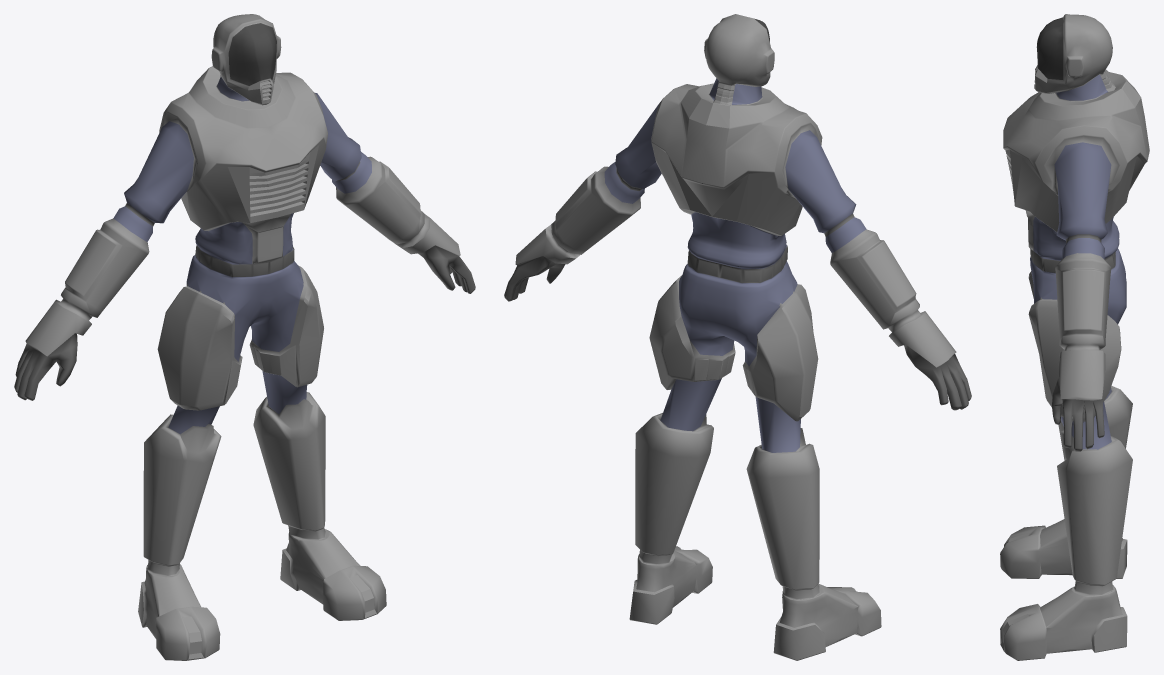
File: SmallEnemy_high.fbx
3 views of the same model, side by side, from view 1: azimuth 30°, elevation 25°; view 2: azimuth 150°, elevation 25°; view 3: azimuth 270°, elevation 25° (orthographic). The views are drawn at different scales.
Parts seen in each view (by area): view 1: SmallEnemy_high; view 2: SmallEnemy_high; view 3: SmallEnemy_high.
Part boxes in pixels (bbox=[...]): SmallEnemy_high: bbox=[14, 14, 475, 660]; SmallEnemy_high: bbox=[504, 14, 971, 660]; SmallEnemy_high: bbox=[1000, 14, 1149, 660].
Bounding box in the file's own units: 151 × 189 × 43.41.
